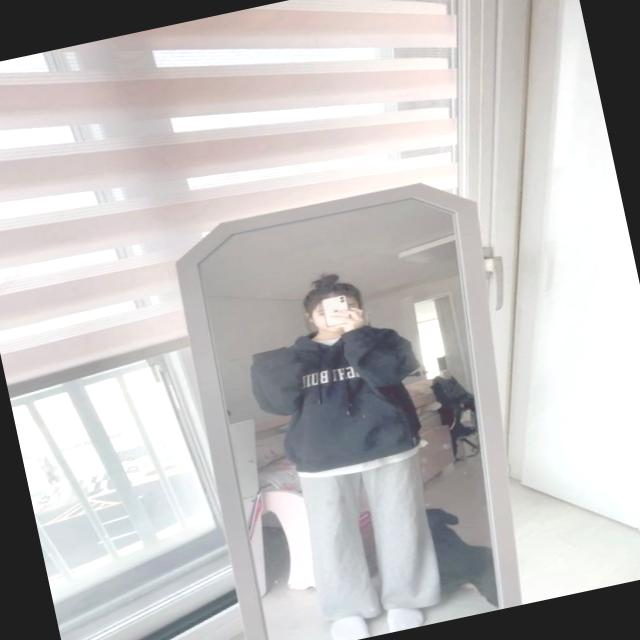hoodies: (244, 312, 440, 486)
trainingpants: (290, 446, 450, 628)
